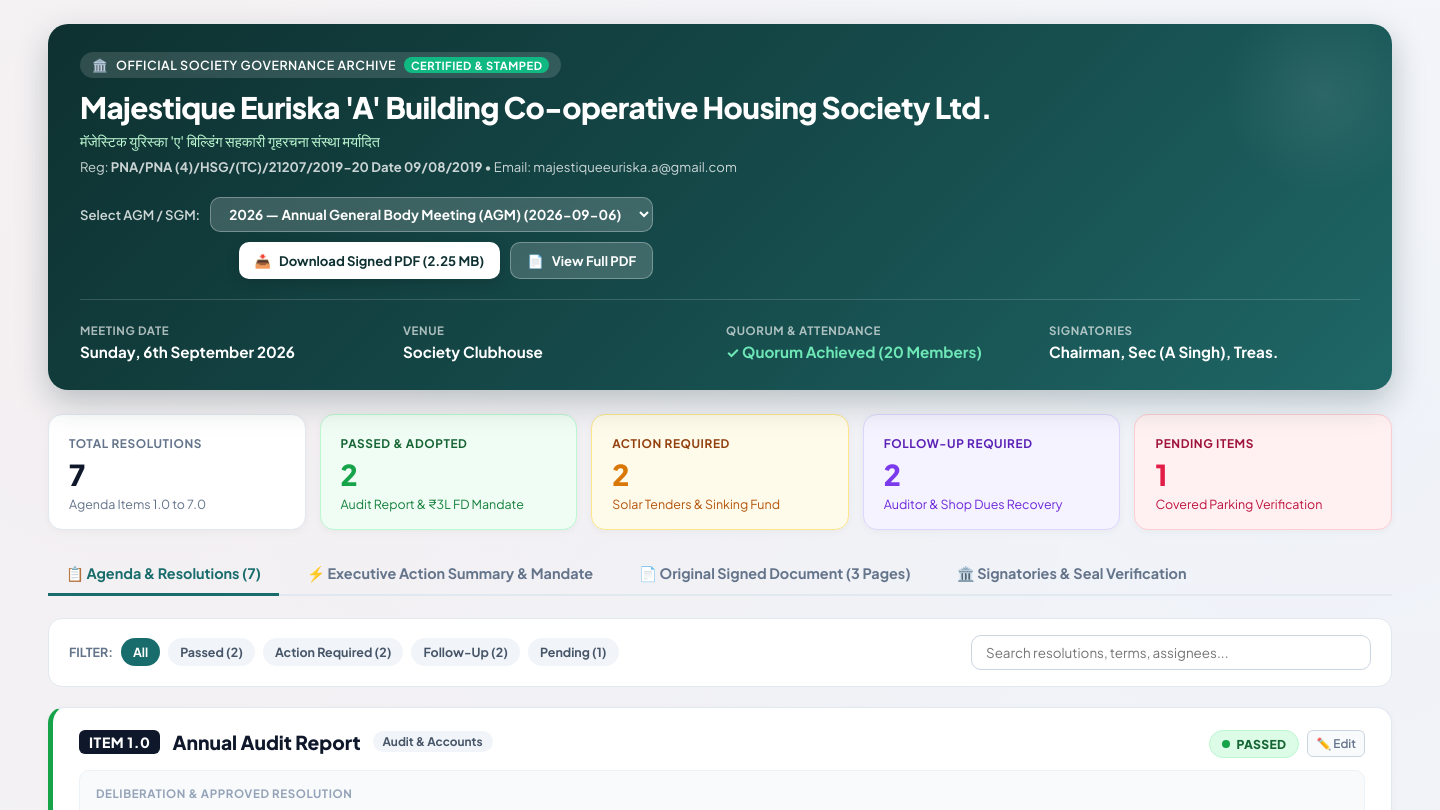
Scenario: AgmMeetingTracker Component › switches to Executive Action Summary & Mandate tab
The width and height of the screenshot is (1440, 810).
Click the button "⚡ Executive Action Summary & Mandate".
click(450, 575)  # box [289, 554, 611, 596]
(page scrolled)
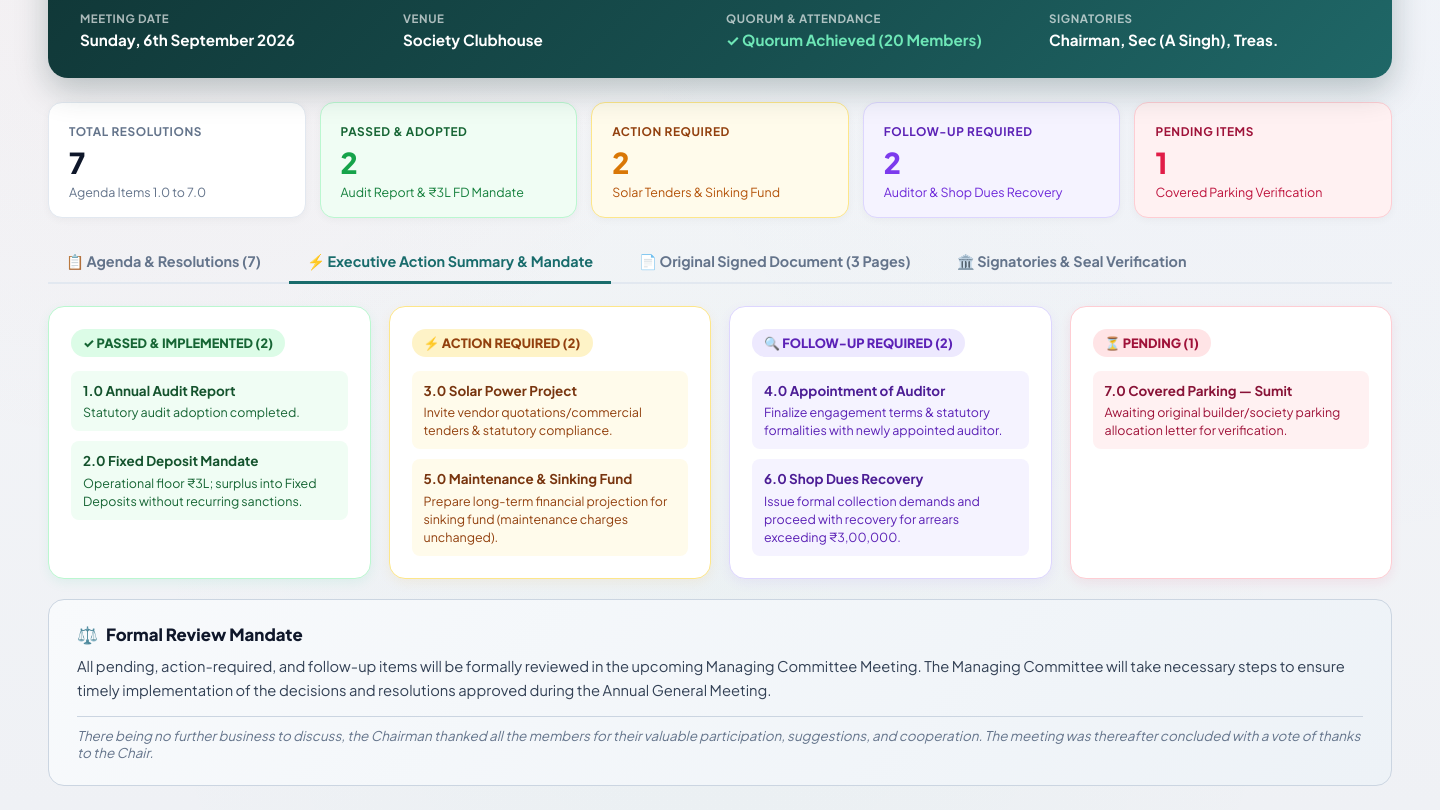
Check: the text "✓ PASSED & IMPLEMENTED (2)" is shown, box [71, 329, 285, 357]
Check: the text "Formal Review Mandate" is shown, box [106, 624, 303, 645]
